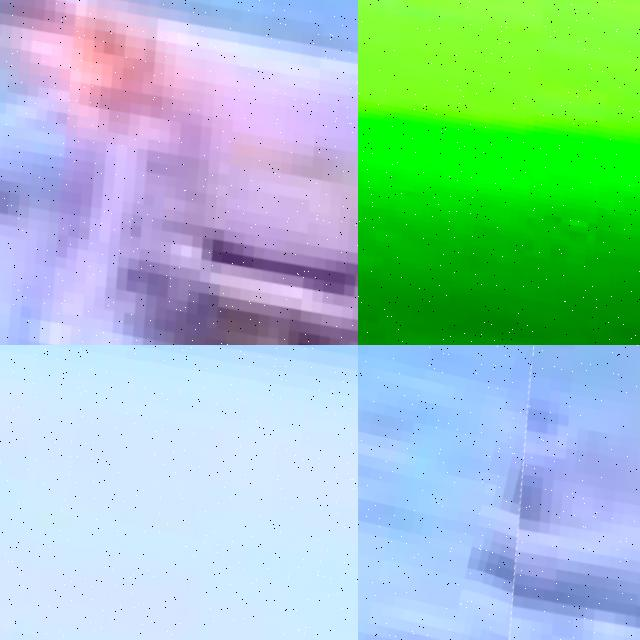0: (0, 0, 358, 345), (427, 345, 640, 640)
drone: (0, 345, 358, 640), (358, 0, 640, 345)
